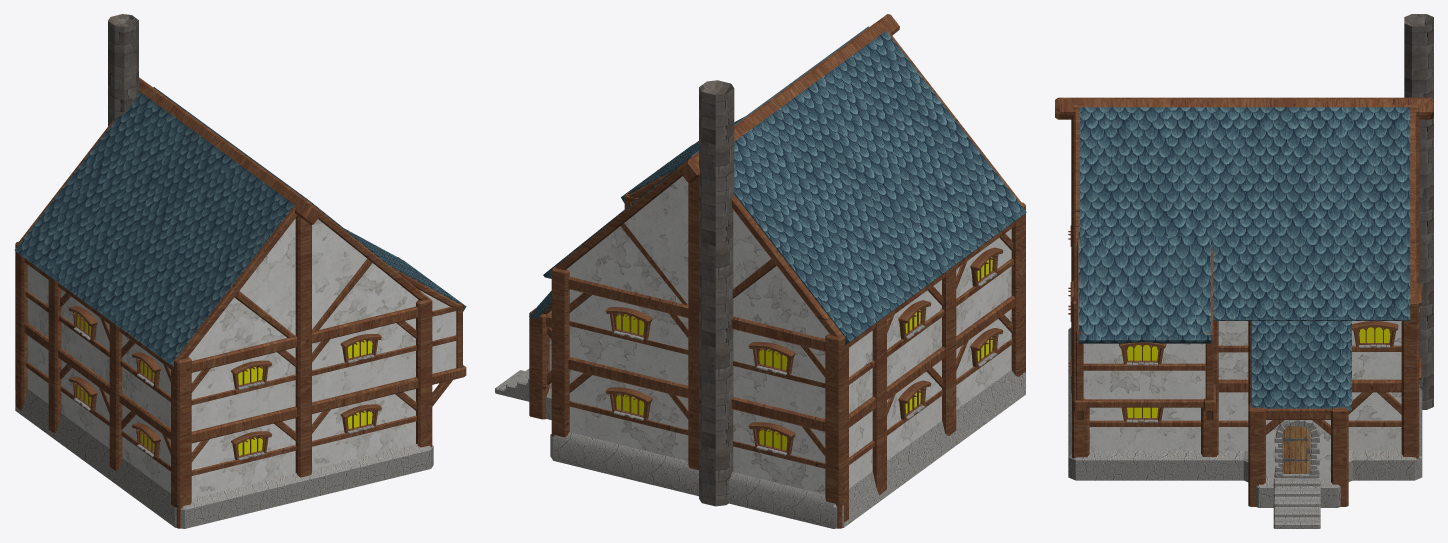
File: House_A.fbx
3 renders of one model, left to right at view 1: azimuth 30°, elevation 25°; view 2: azimuth 150°, elevation 25°; view 3: azimuth 270°, elevation 25°, orthographic. The views are drawn at different scales.
Parts seen in each view (by area): view 1: House_Small; view 2: House_Small; view 3: House_Small.
Boxes of the visible parts, x1,y1,x2,y2 form: House_Small: [14, 14, 466, 528]; House_Small: [495, 14, 1026, 528]; House_Small: [1055, 14, 1433, 528].
Bounding box in the file's own units: 737 × 718 × 642.
